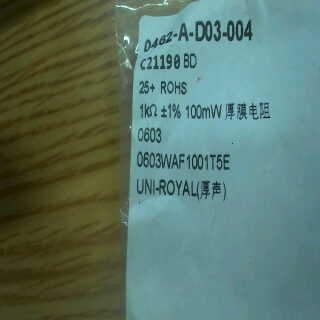1kR: (134, 101, 159, 123)
